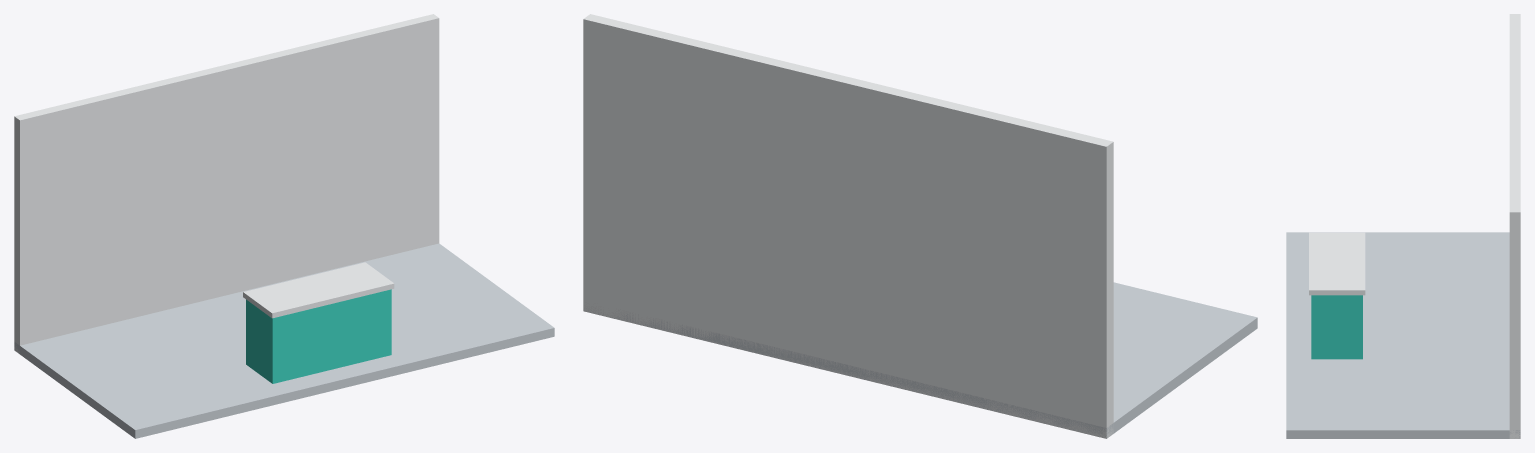
3 renders of one model, left to right at view 1: azimuth 30°, elevation 25°; view 2: azimuth 150°, elevation 25°; view 3: azimuth 270°, elevation 25°, orthographic. The views are drawn at different scales.
Visible parts, largest first — view 1: Exhibition Booth Concept; view 2: Exhibition Booth Concept; view 3: Exhibition Booth Concept.
Part boxes in pixels (<box>): Exhibition Booth Concept: <box>14,14,554,438</box>; Exhibition Booth Concept: <box>583,14,1257,438</box>; Exhibition Booth Concept: <box>1286,14,1520,438</box>.
Bounding box in the file's own units: 6 × 3.2 × 3.
